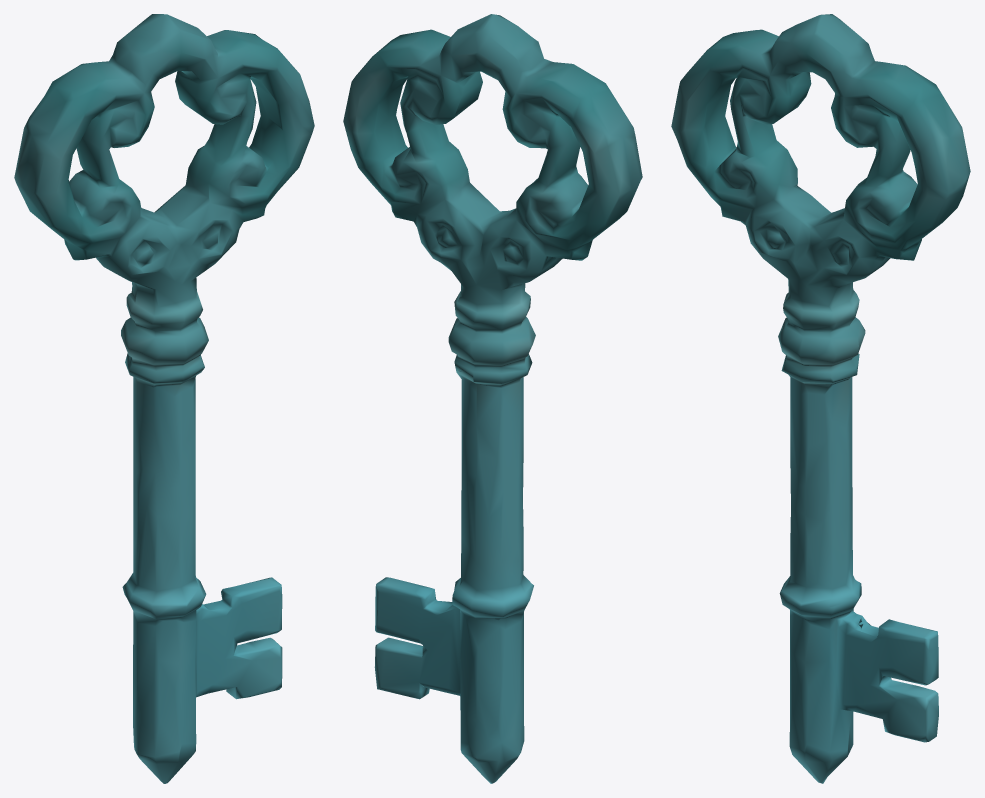
The model's file is gen3d-ice-key-lod0.glb.
3 renders of one model, left to right at view 1: azimuth 30°, elevation 25°; view 2: azimuth 150°, elevation 25°; view 3: azimuth 330°, elevation 25°, orthographic.
Visible parts, largest first — view 1: part_0; view 2: part_0; view 3: part_0.
Boxes of the visible parts, x1,y1,x2,y2 form: part_0: (14, 14, 314, 783); part_0: (343, 14, 642, 783); part_0: (671, 14, 970, 783).
Bounding box in the file's own units: 0.3813 × 0.9999 × 0.107.
